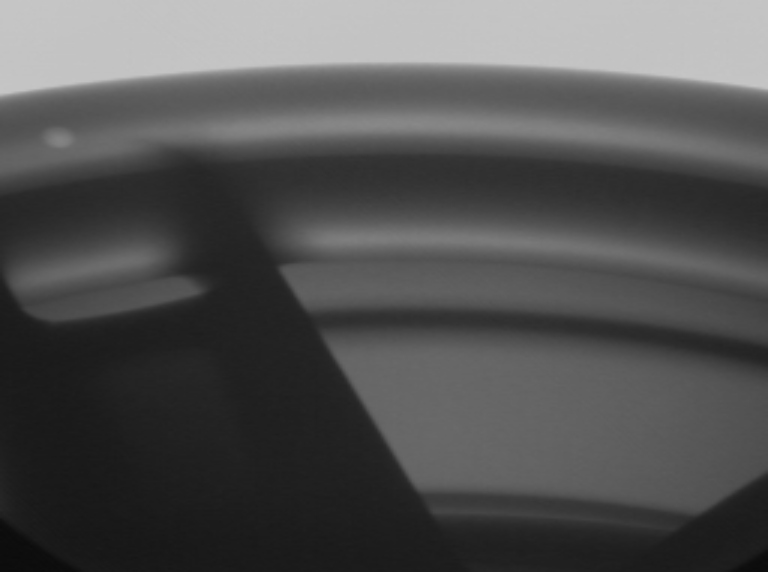defect: (42, 121, 84, 156)
